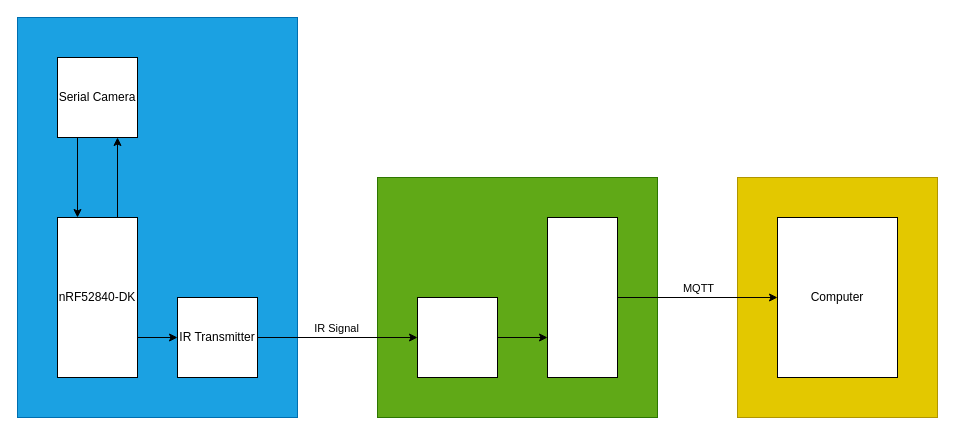
This 955x435 diagram has some shape labels left out. Here are the shapes that lost their labels. From the top down, the box of each, then its label:
(546, 216, 618, 378): m5Core2
(416, 296, 498, 378): IR Receiver
